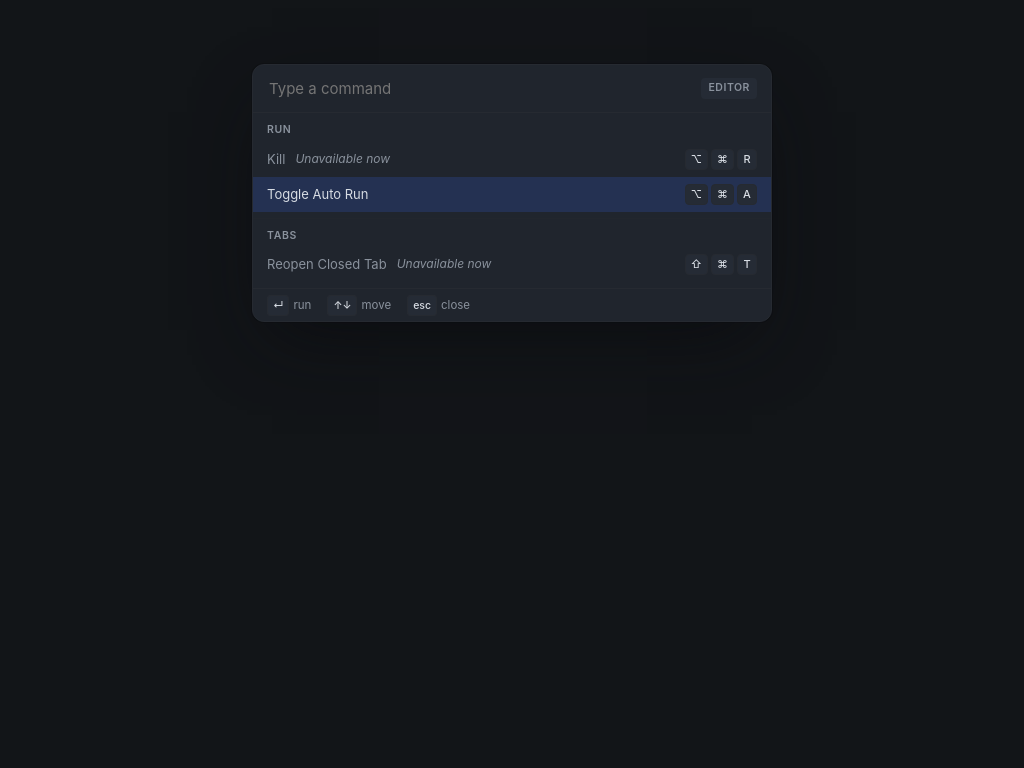
Test: CommandPalette › a query that genuinely matches nothing still says 'No matching commands'
Type "zzzz" into the dropdown at x=479, y=88, box x1=267 y1=77 x2=692 y2=100
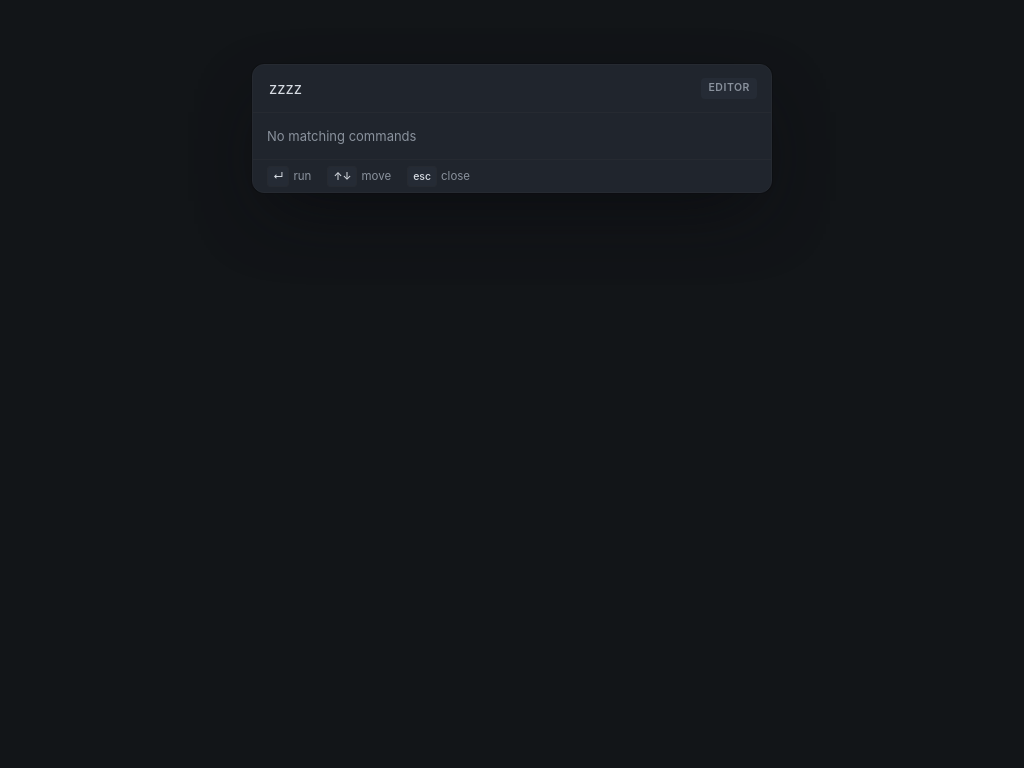
Result: no options are shown
Result: the text "No matching commands" is shown at x1=267 y1=128 x2=416 y2=144
